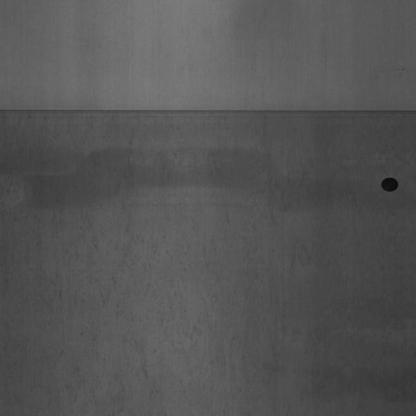punching_hole: (379, 173, 401, 199)
welding_line: (0, 94, 415, 130)
